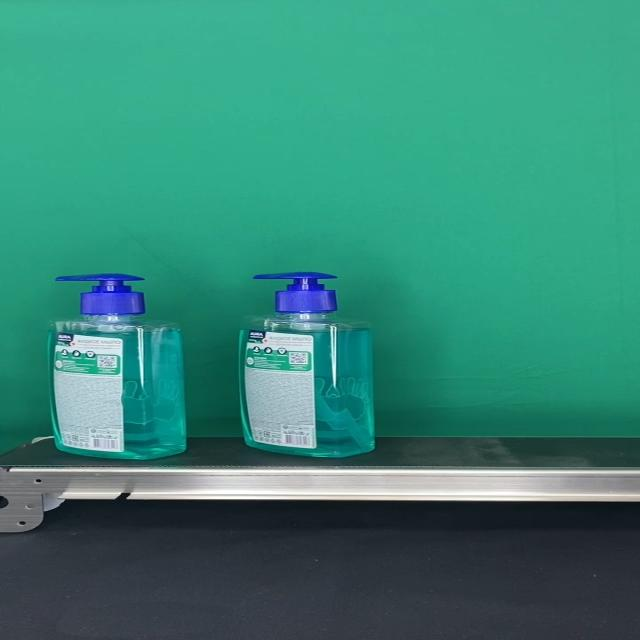Bottle: (47, 274, 186, 459), (237, 272, 375, 458)
Cap: (54, 274, 145, 316), (249, 272, 338, 314)
